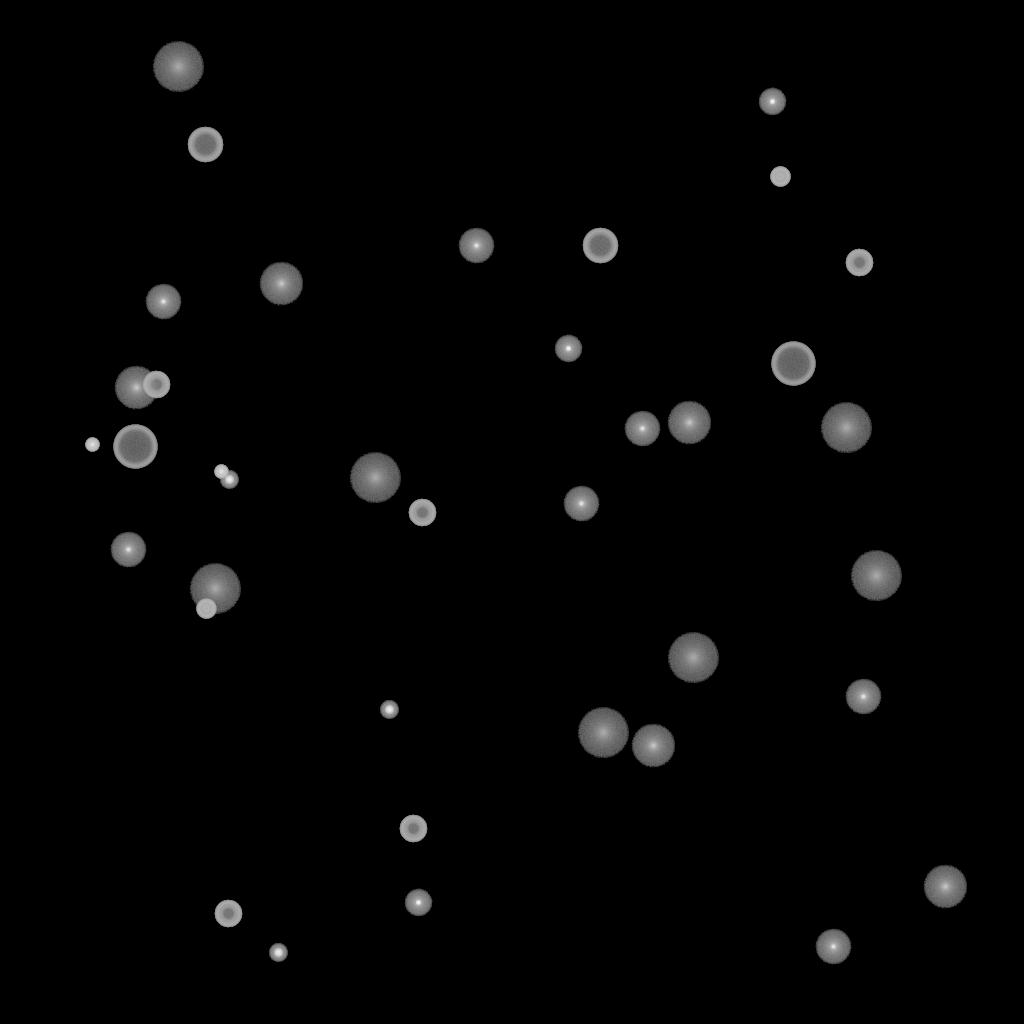depth:-10: (554, 335, 582, 363), (404, 889, 432, 917), (758, 88, 786, 116)
depth:-20: (220, 471, 238, 489), (269, 944, 287, 962), (380, 701, 398, 719)
depth:-30: (214, 465, 228, 479), (85, 438, 99, 452)
depth:-40: (770, 167, 790, 187), (196, 599, 216, 619)
depth:-50: (845, 249, 873, 277), (142, 371, 170, 399), (408, 499, 436, 527), (399, 815, 427, 843), (214, 900, 242, 928)
depth:-60: (187, 127, 223, 163), (582, 228, 618, 264)
depth:-70: (771, 342, 815, 386), (113, 425, 157, 469)
depth:0: (563, 486, 599, 522), (624, 411, 660, 447), (845, 679, 881, 715), (458, 228, 494, 264), (145, 284, 181, 320), (110, 532, 146, 568), (815, 929, 851, 965)
depth:10: (667, 401, 711, 445), (114, 366, 158, 410), (631, 724, 675, 768), (923, 865, 967, 909), (259, 262, 303, 306)
depth:20: (820, 403, 872, 453), (667, 633, 719, 683), (850, 551, 902, 601), (152, 42, 204, 92), (349, 453, 401, 503), (189, 564, 241, 614), (577, 708, 629, 758)
